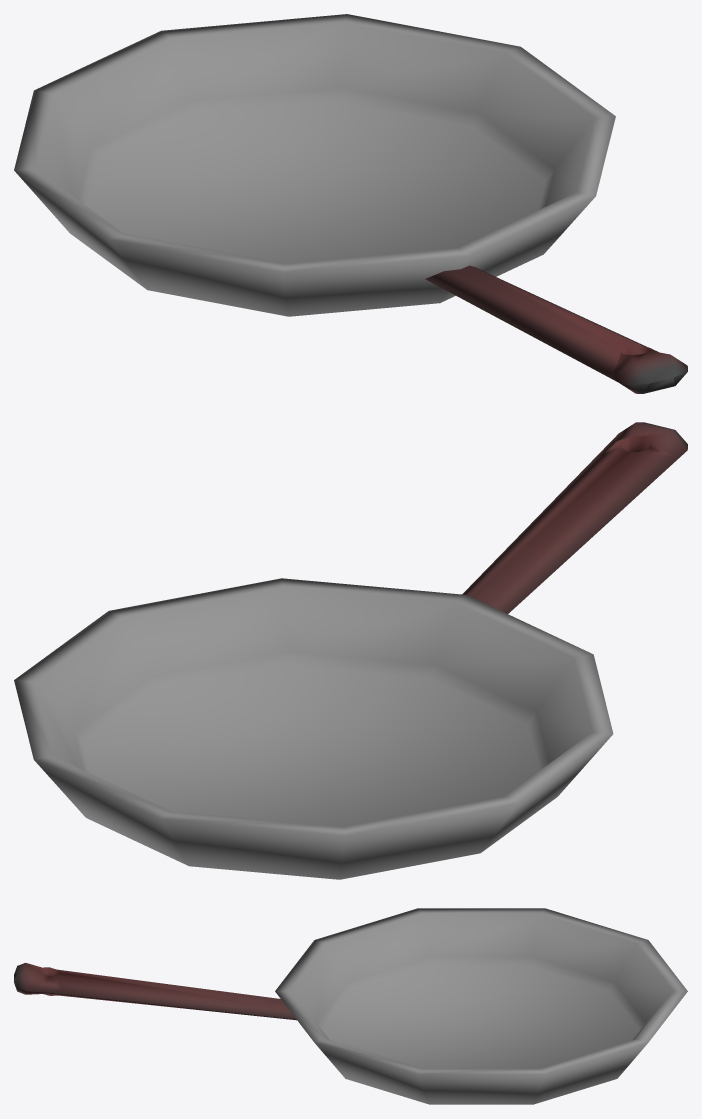
Rendered from Pan.glb.
3 views of the same model, one above another, from view 1: azimuth 30°, elevation 25°; view 2: azimuth 150°, elevation 25°; view 3: azimuth 270°, elevation 25° (orthographic). The views are drawn at different scales.
Visible parts, largest first — view 1: Cylinder.015; view 2: Cylinder.015; view 3: Cylinder.015.
Part boxes in pixels (left/top/right/bottom): Cylinder.015: left=14, top=14, right=687, bottom=393; Cylinder.015: left=14, top=422, right=687, bottom=879; Cylinder.015: left=14, top=908, right=687, bottom=1104.
Size of the model in its own units: 5.11 by 0.9785 by 8.76.
1 material, 1 textured.
